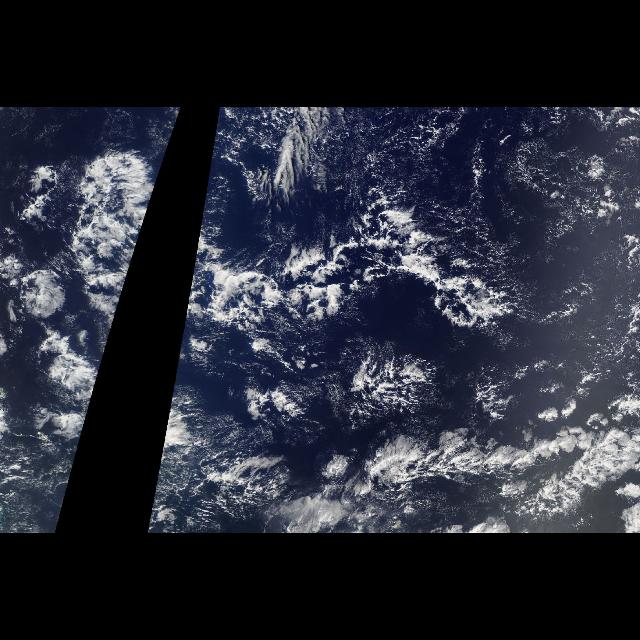Fish: (178, 148, 570, 354), (311, 400, 639, 532), (29, 146, 168, 348)
